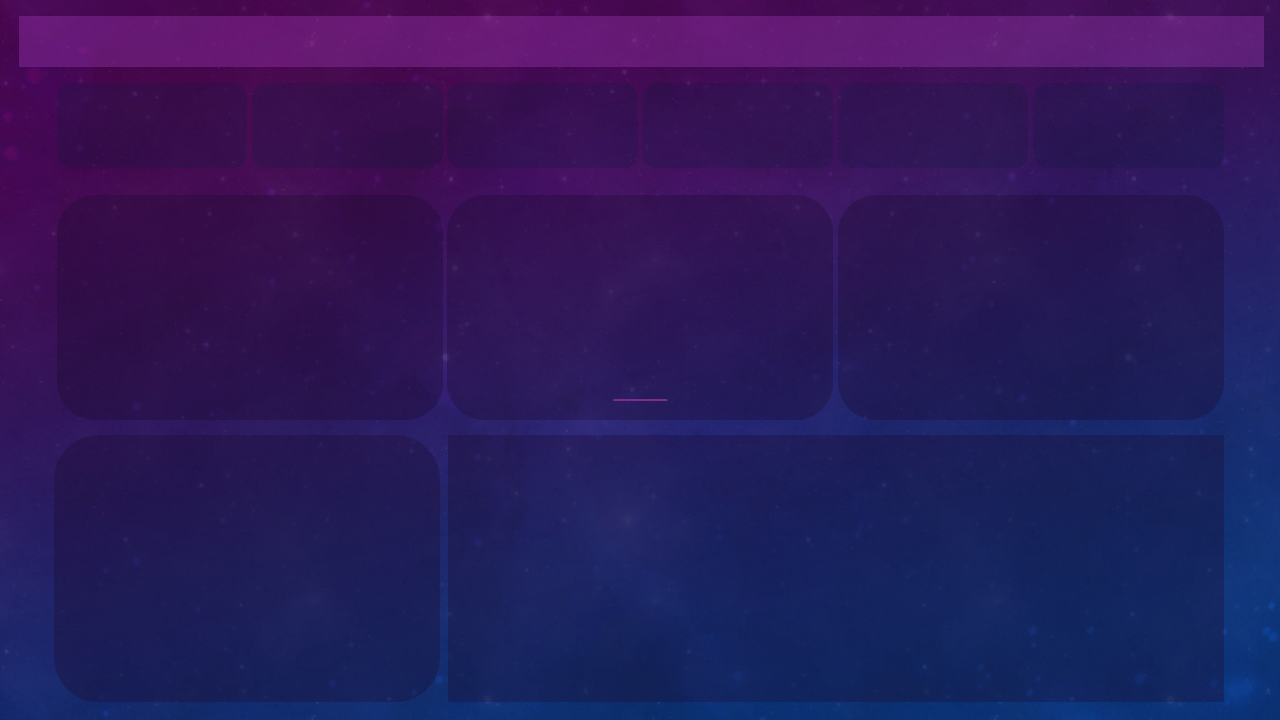

What the dashboard file says about the page in this screenshot:
{"tool":"powerbi","page":{"name":"Page 1","canvas":[1280,720],"ordinal":0},"visuals":[{"type":"card","fields":{"Values":["DSR.Sales Amount"]},"box":[63.8,80.6,171.3,73.9],"z":0,"group":"g1"},{"type":"card","fields":{"Values":["DSR.MTD GROWTH"]},"box":[430.7,67.2,230.1,95.7],"z":1,"group":"g1"},{"type":"card","fields":{"Values":["DSR.MTD SALES"]},"box":[251.9,84,174.7,70.6],"z":2,"group":"g1"},{"type":"card","fields":{"Values":["DSR.Last day sales"]},"box":[671.9,80.6,139.4,72.2],"z":3,"group":"g1"},{"type":"card","fields":{"Values":["DSR.Growth from last week"]},"box":[1024.6,70.6,186.5,95.7],"z":4,"group":"g1"},{"type":"card","fields":{"Values":["DSR.Some day in last week"]},"box":[821.4,70.6,193.2,92.4],"z":5,"group":"g1"},{"type":"areaChart","fields":{"Category":["Date_Calendar.Date"],"Y":["DSR.MTD SALES","DSR.Last month MTD sales"]},"box":[63.8,206.6,366.2,203.3],"z":6},{"type":"areaChart","fields":{"Category":["Date_Calendar.Date"],"Y":["DSR.Sales Amount"]},"box":[63.8,443.5,366.2,240.2],"z":7},{"type":"donutChart","fields":{"Y":["DSR.Last day sales"],"Category":["DSR.Supervisor"]},"box":[467,201.6,361.2,215],"z":8},{"type":"scatterChart","fields":{"X":["DSR.MTD SALES"],"Y":["DSR.MTD GROWTH"],"Category":["DSR.EMP Name"]},"box":[848.3,206.6,362.8,210],"z":9},{"type":"tableEx","fields":{"Values":["DSR.Location","DSR.Last day sales","DSR.Some day in last week","DSR.Growth from last week","DSR.MTD SALES","DSR.Last month MTD sales","DSR.MTD GROWTH"]},"box":[467,443.5,757.6,257],"z":10},{"type":"group","id":"g1","title":"Group 1","box":[63.8,67.2,1147.3,99.1],"z":11},{"type":"slicer","fields":{"Values":["Date_Calendar.Month_name"]},"box":[1117.1,8.4,149.5,62.2],"z":12},{"type":"slicer","fields":{"Values":["Date_Calendar.Date"]},"box":[915.5,13.4,198.2,57.1],"z":13},{"type":"textbox","box":[25.2,8.4,534.2,55.4],"z":14}]}

Visuals, with their boxes in screenshot pixels (x1, y1, x2, y2), scaled from the page's 1280x720 canvas onto the 1280x720 screenshot:
card - DSR.Sales Amount: locate(64, 81, 235, 154)
card - DSR.MTD GROWTH: locate(431, 67, 661, 163)
card - DSR.MTD SALES: locate(252, 84, 427, 155)
card - DSR.Last day sales: locate(672, 81, 811, 153)
card - DSR.Growth from last week: locate(1025, 71, 1211, 166)
card - DSR.Some day in last week: locate(821, 71, 1015, 163)
areaChart - Date_Calendar.Date x DSR.MTD SALES: locate(64, 207, 430, 410)
areaChart - Date_Calendar.Date x DSR.Sales Amount: locate(64, 444, 430, 684)
donutChart - DSR.Last day sales x DSR.Supervisor: locate(467, 202, 828, 417)
scatterChart - DSR.MTD SALES x DSR.MTD GROWTH: locate(848, 207, 1211, 417)
tableEx - DSR.Location x DSR.Last day sales: locate(467, 444, 1225, 700)
"Group 1" group: locate(64, 67, 1211, 166)
slicer - Date_Calendar.Month_name: locate(1117, 8, 1267, 71)
slicer - Date_Calendar.Date: locate(916, 13, 1114, 70)
textbox: locate(25, 8, 559, 64)
